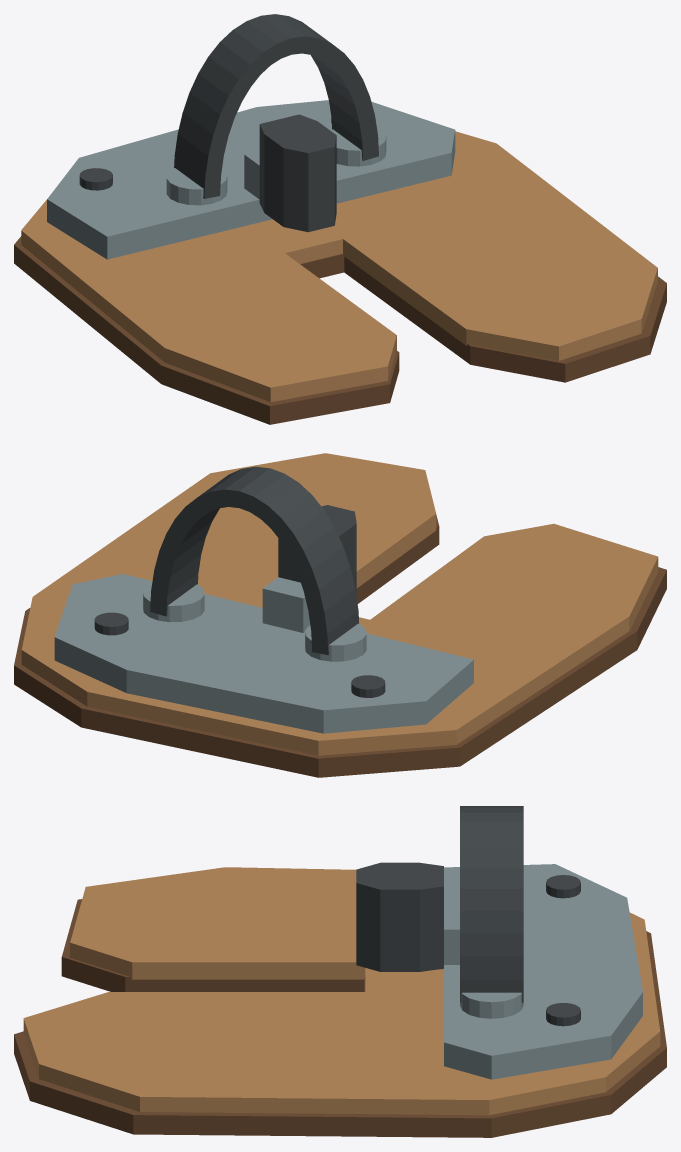
3 renders of one model, top to bottom at view 1: azimuth 30°, elevation 25°; view 2: azimuth 150°, elevation 25°; view 3: azimuth 270°, elevation 25°, orthographic. The views are drawn at different scales.
Visible parts, largest first — view 1: WholeUpperSplitLeatherLeaf, WholeShortShapedBackingPlate, WholeLowerSplitLeatherLeaf, WholeReturnedFingerRetentionLoop, WholeRoundedFingerSeparator, WholeLeftLoopSeat, WholeRightLoopSeat, WholeSeparatorRoot, WholeLeftBackingFastener; view 2: WholeUpperSplitLeatherLeaf, WholeShortShapedBackingPlate, WholeLowerSplitLeatherLeaf, WholeReturnedFingerRetentionLoop, WholeSeparatorRoot, WholeRoundedFingerSeparator, WholeRightLoopSeat, WholeLeftLoopSeat, WholeRightBackingFastener, WholeLeftBackingFastener; view 3: WholeUpperSplitLeatherLeaf, WholeShortShapedBackingPlate, WholeLowerSplitLeatherLeaf, WholeReturnedFingerRetentionLoop, WholeRoundedFingerSeparator, WholeRightLoopSeat, WholeSeparatorRoot, WholeLeftBackingFastener, WholeRightBackingFastener.
Part boxes in pixels (x1,y1,x2,y2): WholeUpperSplitLeatherLeaf: [21, 131, 657, 402]; WholeShortShapedBackingPlate: [47, 100, 455, 259]; WholeLowerSplitLeatherLeaf: [14, 236, 666, 424]; WholeReturnedFingerRetentionLoop: [174, 14, 378, 198]; WholeRoundedFingerSeparator: [259, 114, 336, 232]; WholeLeftLoopSeat: [166, 168, 227, 205]; WholeRightLoopSeat: [331, 129, 386, 166]; WholeSeparatorRoot: [244, 151, 259, 199]; WholeLeftBackingFastener: [79, 168, 112, 190]; WholeUpperSplitLeatherLeaf: [21, 453, 658, 755]; WholeShortShapedBackingPlate: [54, 574, 473, 733]; WholeLowerSplitLeatherLeaf: [14, 515, 666, 777]; WholeReturnedFingerRetentionLoop: [150, 466, 359, 655]; WholeSeparatorRoot: [262, 577, 310, 632]; WholeRoundedFingerSeparator: [278, 505, 356, 595]; WholeRightLoopSeat: [143, 584, 204, 622]; WholeLeftLoopSeat: [305, 623, 366, 661]; WholeRightBackingFastener: [94, 612, 128, 635]; WholeLeftBackingFastener: [351, 675, 385, 697]; WholeUpperSplitLeatherLeaf: [23, 867, 660, 1115]; WholeShortShapedBackingPlate: [444, 864, 642, 1079]; WholeLowerSplitLeatherLeaf: [14, 899, 666, 1137]; WholeReturnedFingerRetentionLoop: [460, 806, 523, 1002]; WholeRoundedFingerSeparator: [356, 862, 443, 971]; WholeRightLoopSeat: [460, 992, 523, 1018]; WholeSeparatorRoot: [440, 909, 459, 969]; WholeLeftBackingFastener: [546, 875, 580, 898]; WholeRightBackingFastener: [546, 1003, 580, 1026].
Size of the model in its own units: 0.071 by 0.0292 by 0.082.
